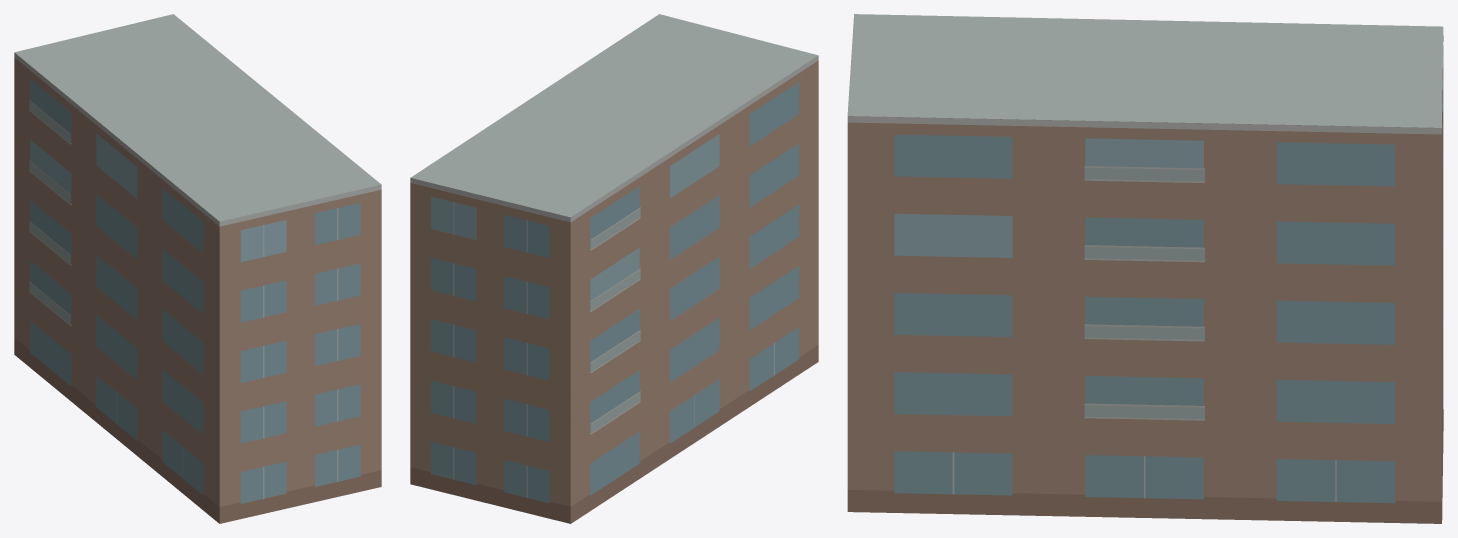
The model's file is survey-upis-32580989.glb.
The picture shows the model from 3 angles, left to right: view 1: azimuth 30°, elevation 25°; view 2: azimuth 150°, elevation 25°; view 3: azimuth 270°, elevation 25°; orthographic projection. The views are drawn at different scales.
Parts seen in each view (by area): view 1: survey-upis-32580989.tmp; view 2: survey-upis-32580989.tmp; view 3: survey-upis-32580989.tmp.
Boxes of the visible parts, <box> form: survey-upis-32580989.tmp: <box>14,14,381,523</box>; survey-upis-32580989.tmp: <box>410,14,818,523</box>; survey-upis-32580989.tmp: <box>847,14,1443,523</box>.
Bounding box in the file's own units: 9.14 × 14.8 × 20.2.
